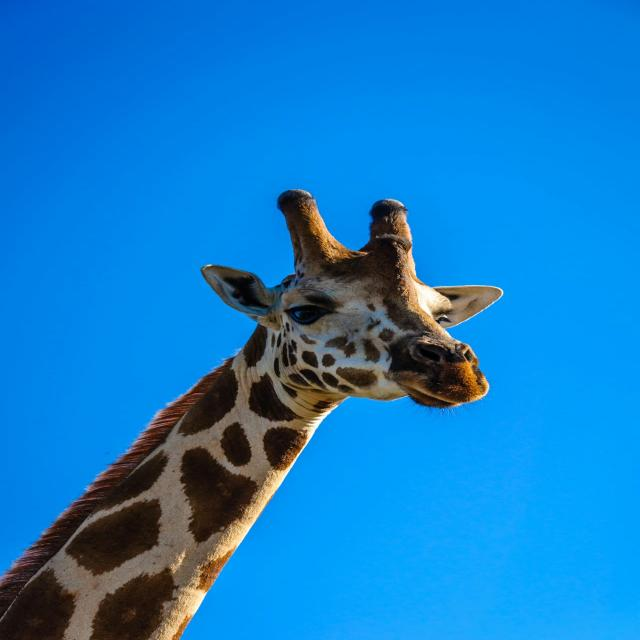Giraffe: (0, 186, 505, 640)
